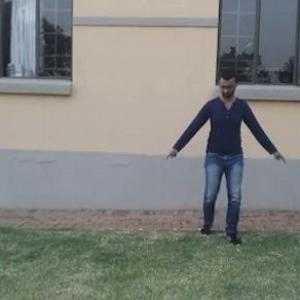land: (170, 62, 299, 257)
